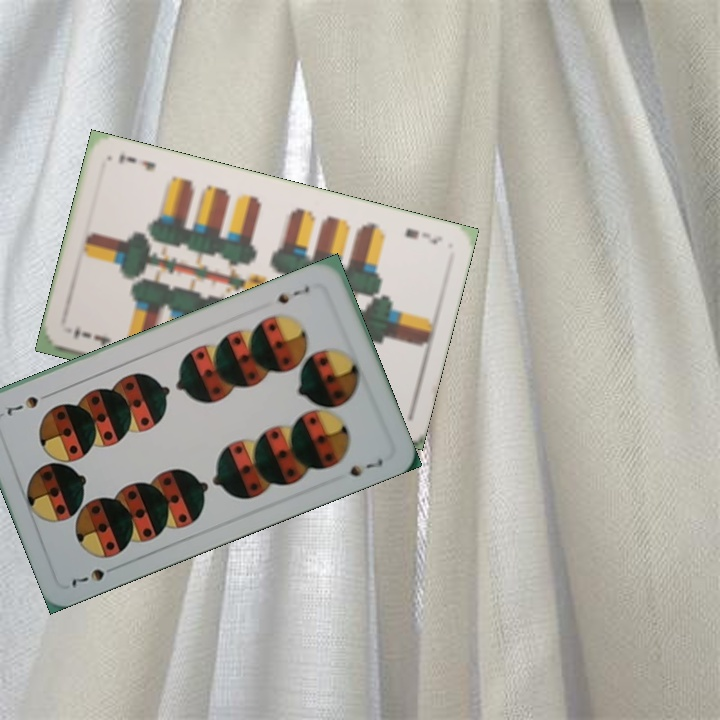E7: (400, 224, 445, 248), (69, 325, 113, 349)
S7: (67, 561, 122, 591), (269, 281, 312, 307)
